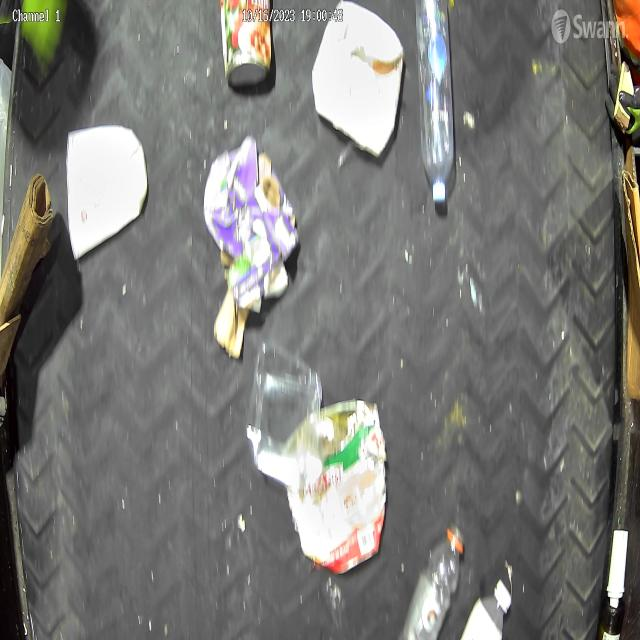can: (288, 400, 388, 574), (219, 0, 274, 89)
milk_jug: (312, 0, 404, 155), (62, 125, 148, 262)
plastic_bottle: (416, 0, 456, 207), (400, 520, 465, 640)
